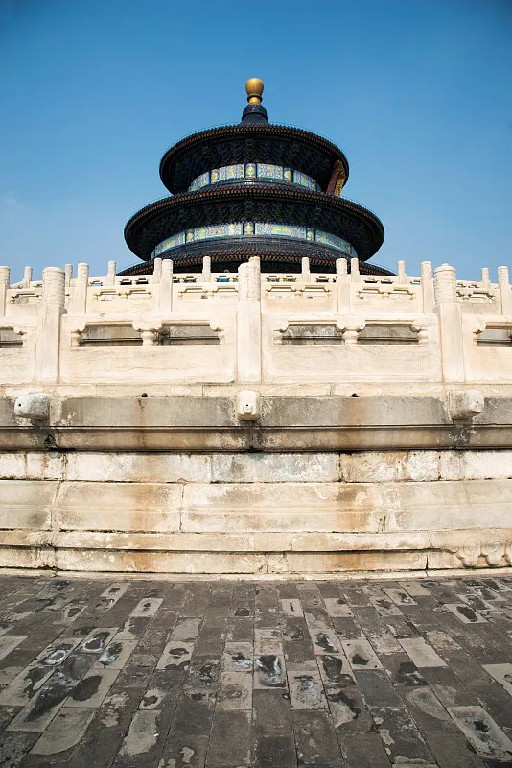Heaven: (116, 73, 399, 279)
